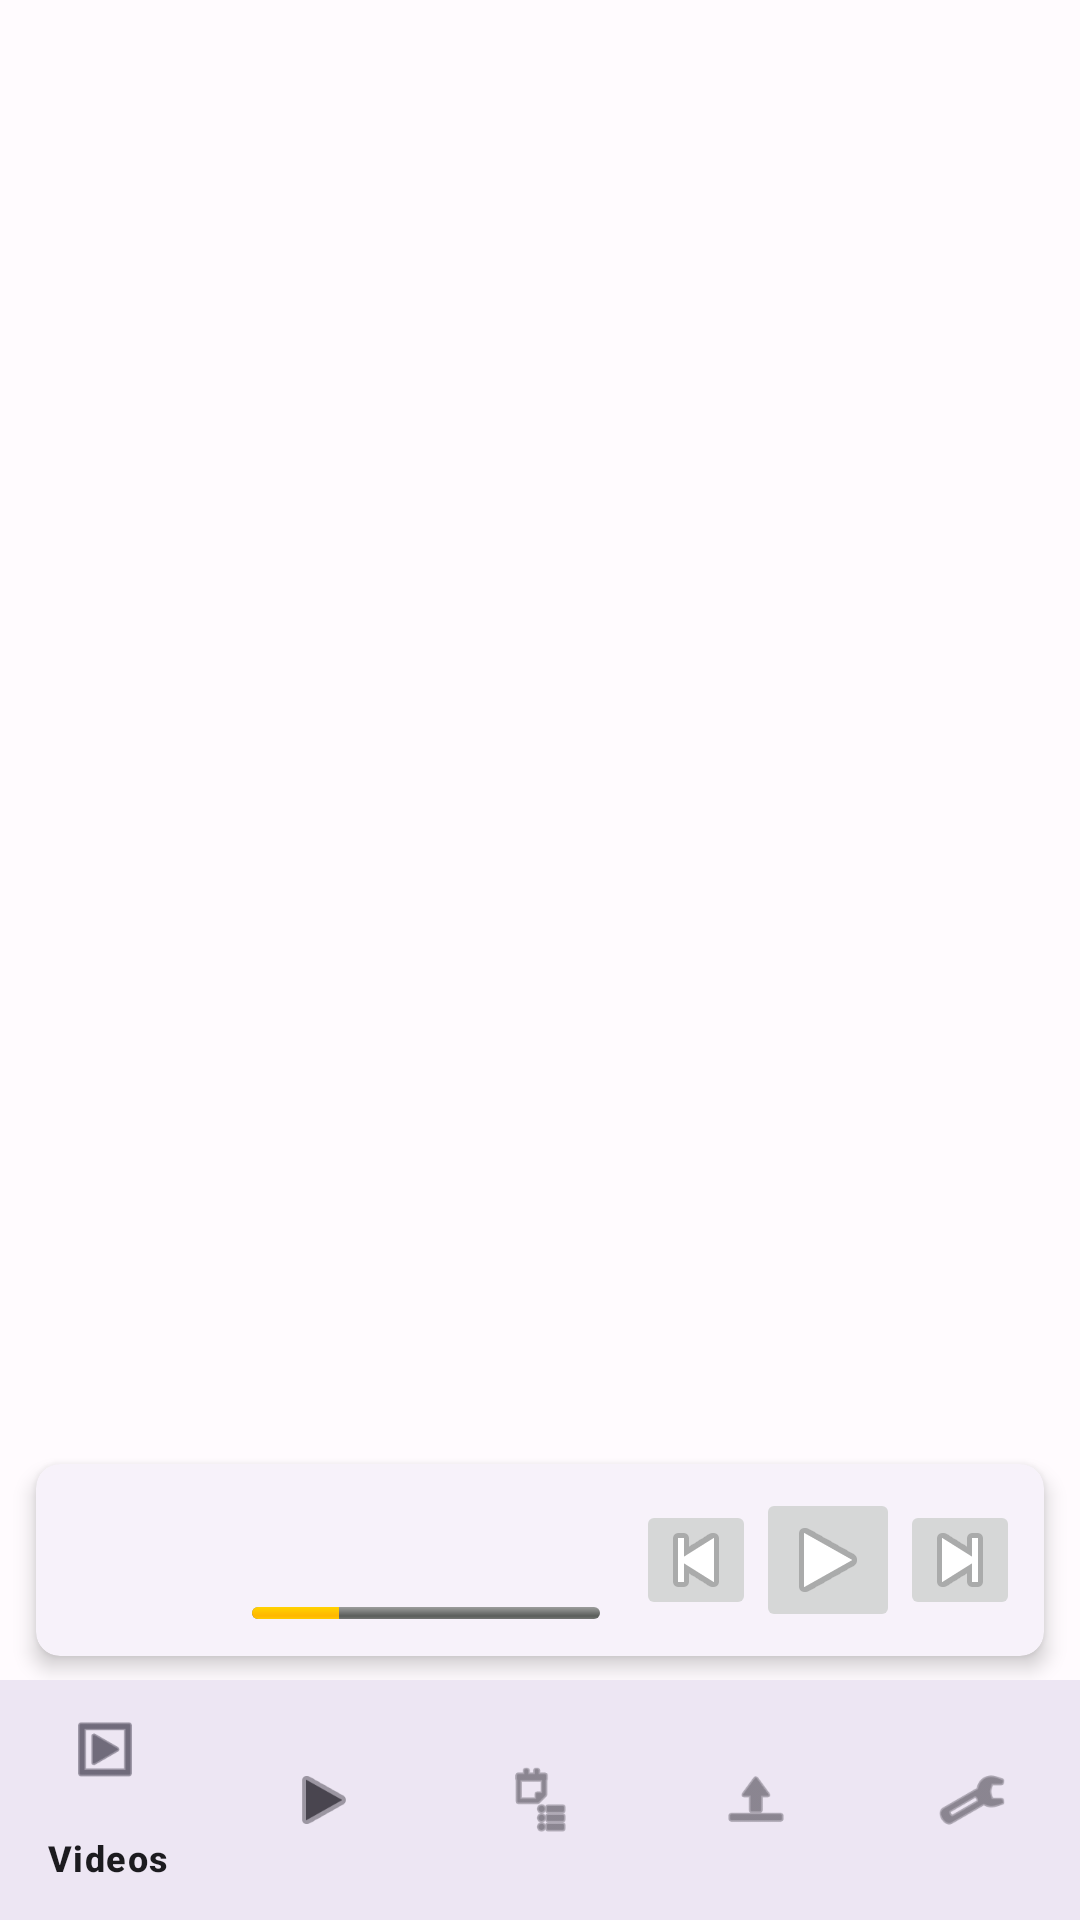

Where to tap for icons on this 1080px x 1920px app screen, as point (x, y):
Next: point (960, 1560)
Play/Pause: point (828, 1560)
Prev: point (696, 1560)
